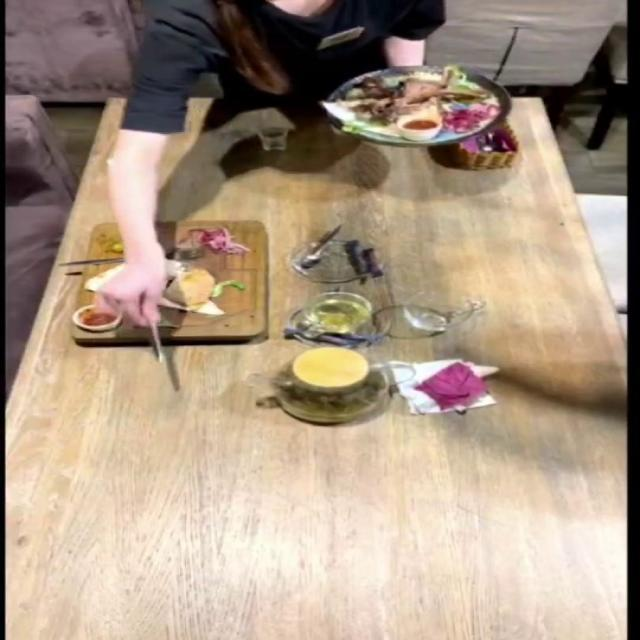meat: (71, 213, 272, 350), (322, 66, 502, 143)
tea: (269, 346, 389, 424)
